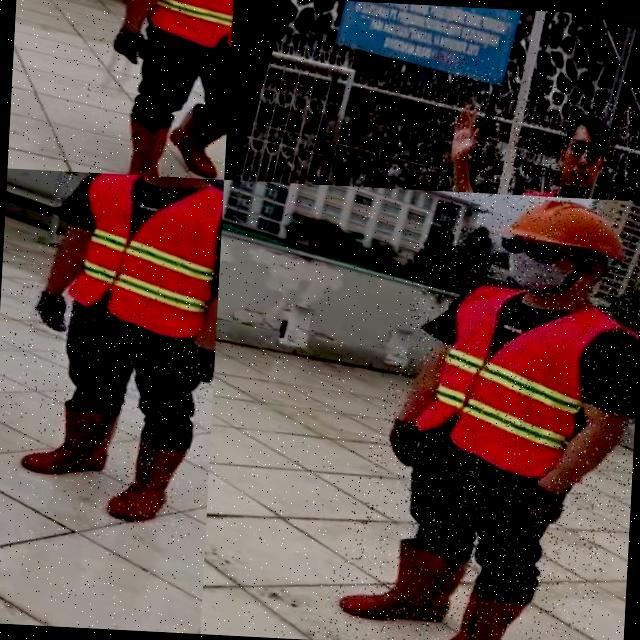boots: (333, 524, 469, 640), (14, 386, 127, 494), (105, 426, 190, 536), (412, 576, 524, 640), (162, 98, 228, 180), (106, 111, 186, 178)
helmet: (496, 194, 634, 271)
vest: (408, 268, 622, 488), (48, 171, 224, 349), (138, 0, 234, 60)
